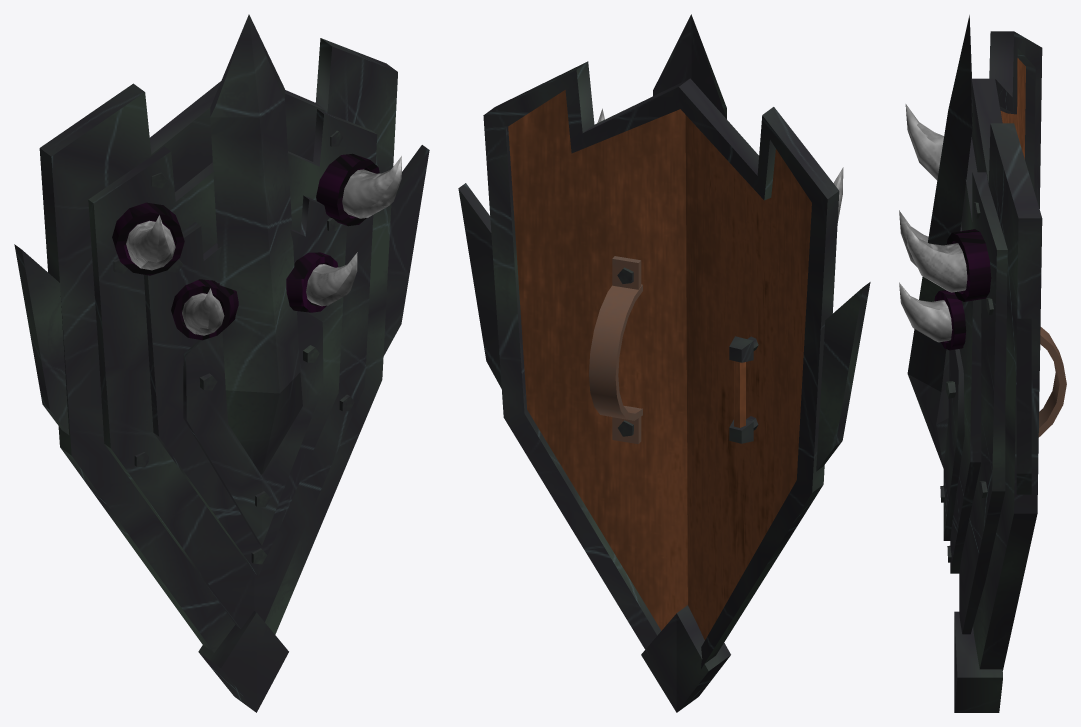
Rendered from shield (2).glb.
3 views of the same model, side by side, from view 1: azimuth 30°, elevation 25°; view 2: azimuth 150°, elevation 25°; view 3: azimuth 270°, elevation 25° (orthographic).
Parts seen in each view (by area): view 1: shield_geo; view 2: shield_geo; view 3: shield_geo.
Part boxes in pixels (box(x1,y1,x2,y2)): shield_geo: box(14, 14, 429, 712); shield_geo: box(458, 14, 870, 712); shield_geo: box(899, 15, 1066, 712).
Bounding box in the file's own units: 0.6534 × 1.06 × 0.2311.
Materials: 1 (1 with a texture image).
